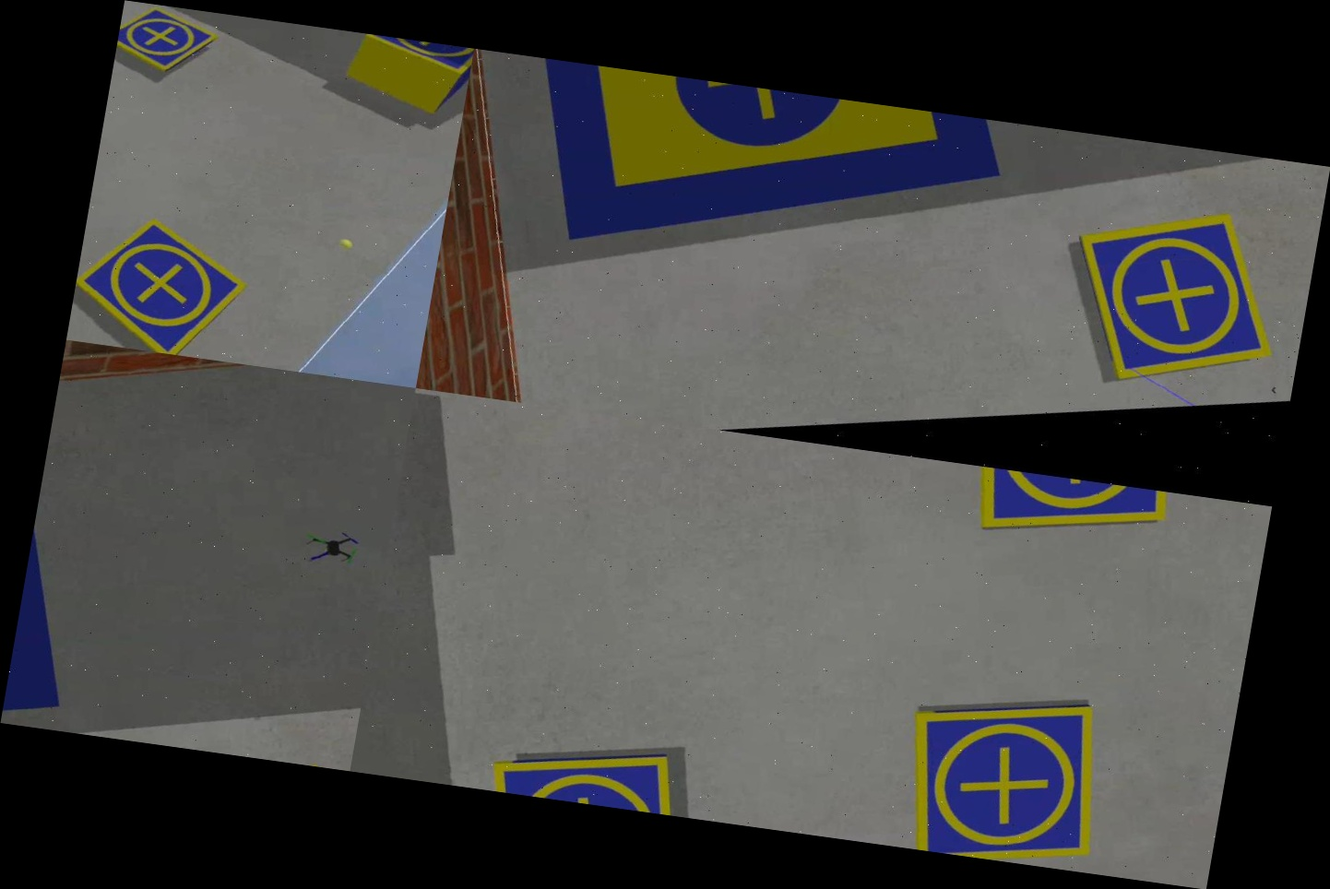large_base: (484, 54, 1019, 300)
small_base: (1051, 190, 1302, 409), (885, 678, 1128, 874), (66, 193, 278, 365), (940, 462, 1193, 562), (486, 729, 706, 818), (112, 0, 229, 91), (349, 32, 474, 96)
